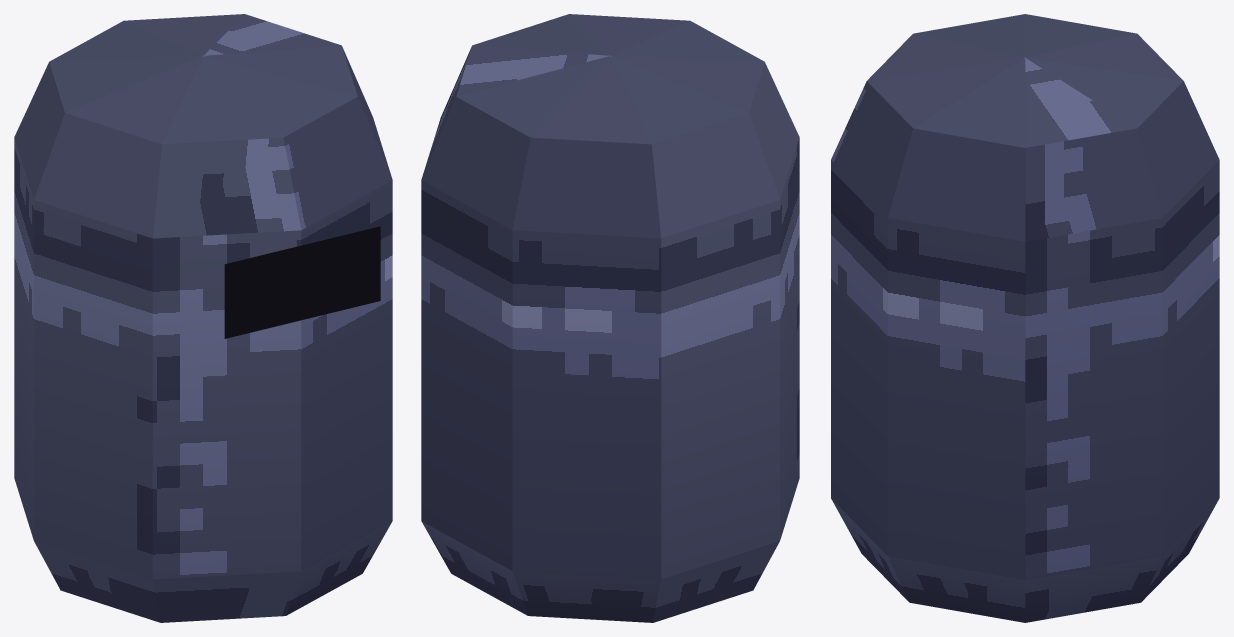
File: cydress.bin.glb
3 views of the same model, side by side, from view 1: azimuth 30°, elevation 25°; view 2: azimuth 150°, elevation 25°; view 3: azimuth 270°, elevation 25° (orthographic).
Visible parts, largest first — view 1: kit_body, kit_card_details; view 2: kit_body; view 3: kit_body.
Part boxes in pixels (x1=…): kit_body: x1=14, y1=14, x2=392, y2=622; kit_card_details: x1=224, y1=226, x2=380, y2=338; kit_body: x1=421, y1=14, x2=799, y2=622; kit_body: x1=831, y1=14, x2=1219, y2=622.
Bounding box in the file's own units: 0.76 × 1.07 × 0.765.
2 materials, 2 textured.
